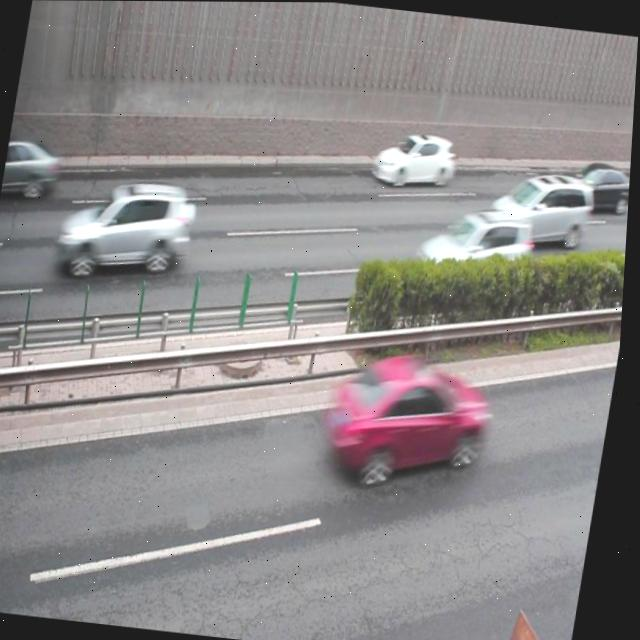car: (323, 345, 502, 492), (56, 170, 204, 288), (410, 201, 539, 298), (369, 123, 461, 191), (567, 155, 633, 216)
truck: (484, 162, 598, 253)
